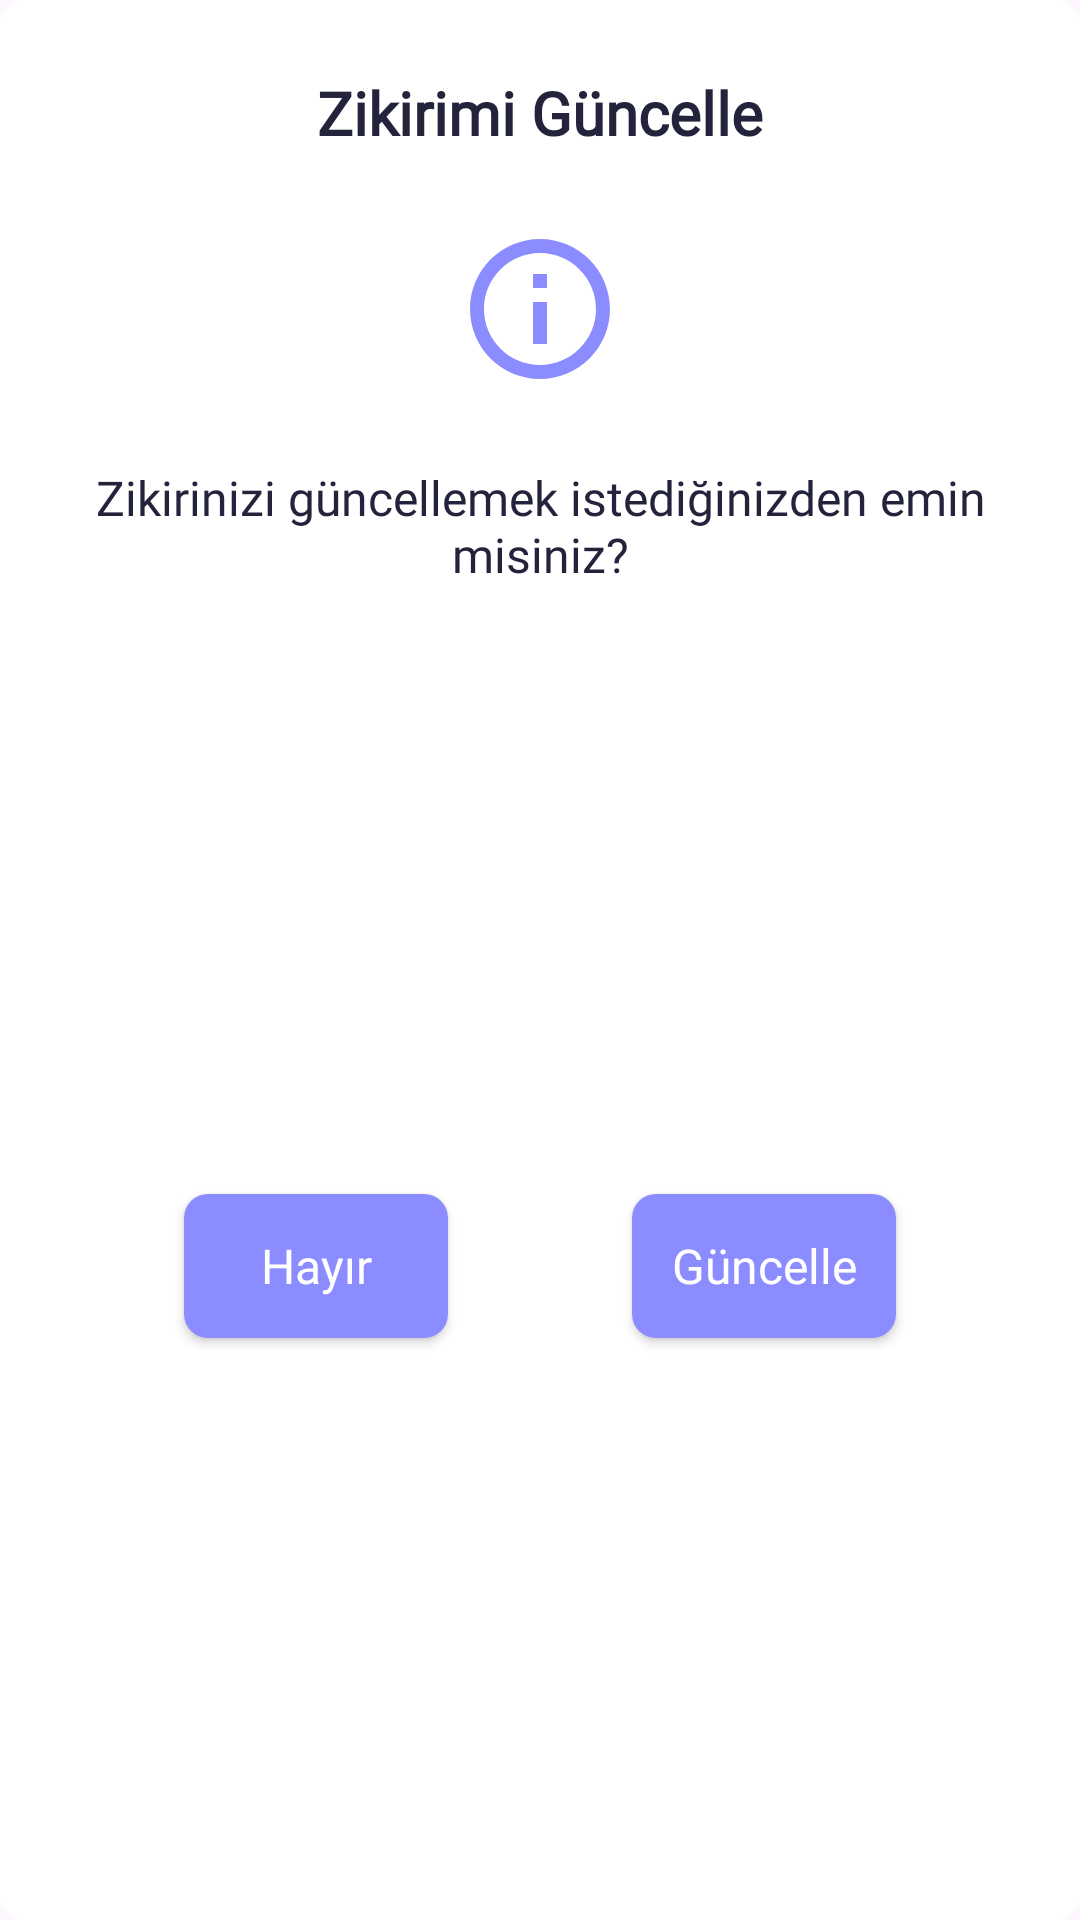

Named icons in this screenshot (1080 x 1920) and their centers, [x,y]:
info: [540,309]
